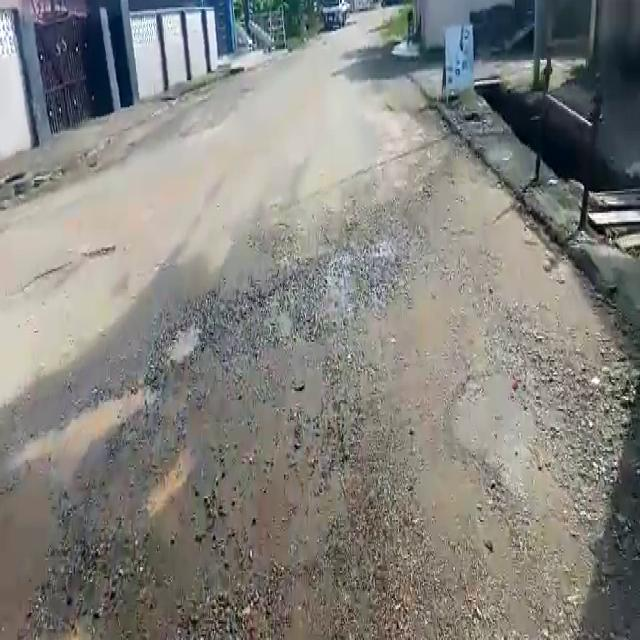Pothole: (168, 317, 202, 363)
